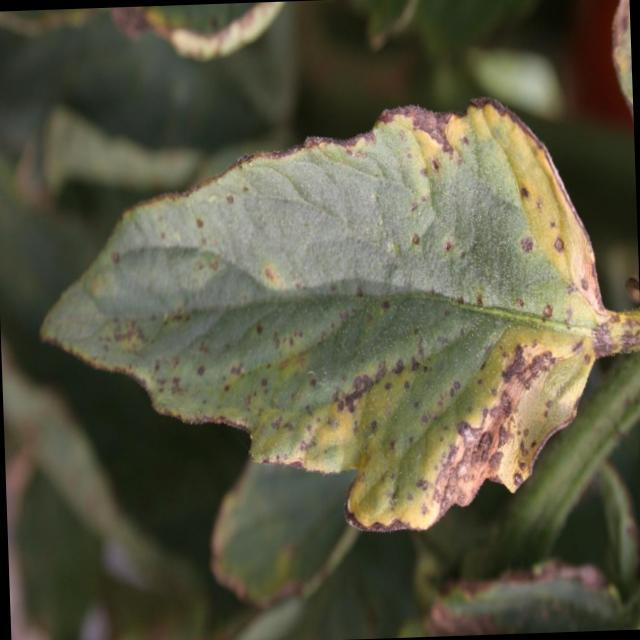Bacterial Spot: (29, 104, 605, 526)
